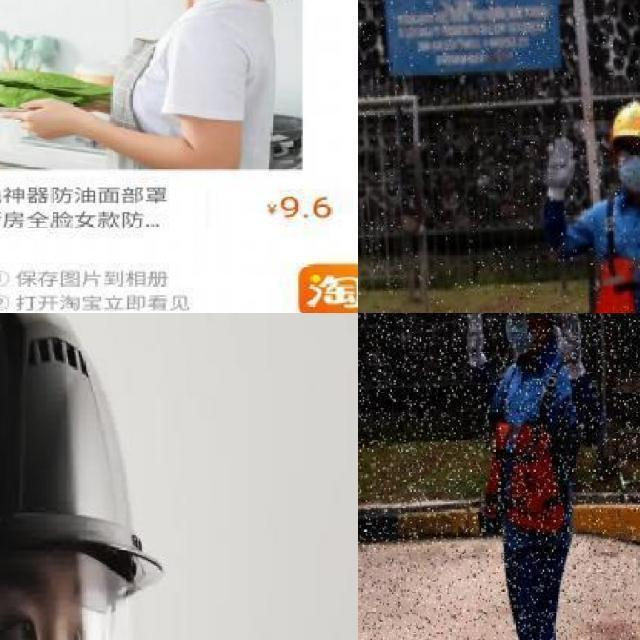apron: (542, 136, 579, 207), (551, 313, 589, 381), (461, 313, 488, 372)
